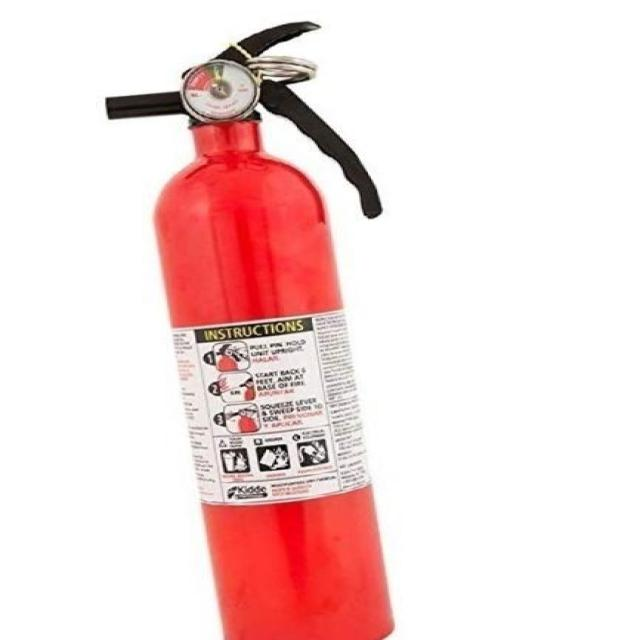fire_extinguisher: (96, 16, 402, 639)
